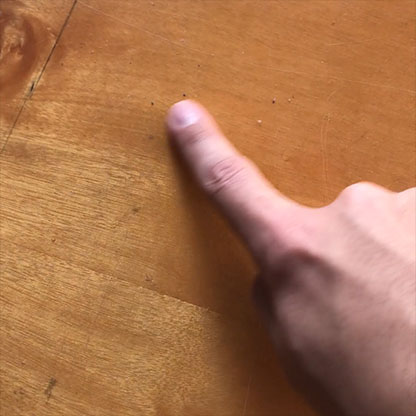fingertip: (159, 91, 220, 146)
